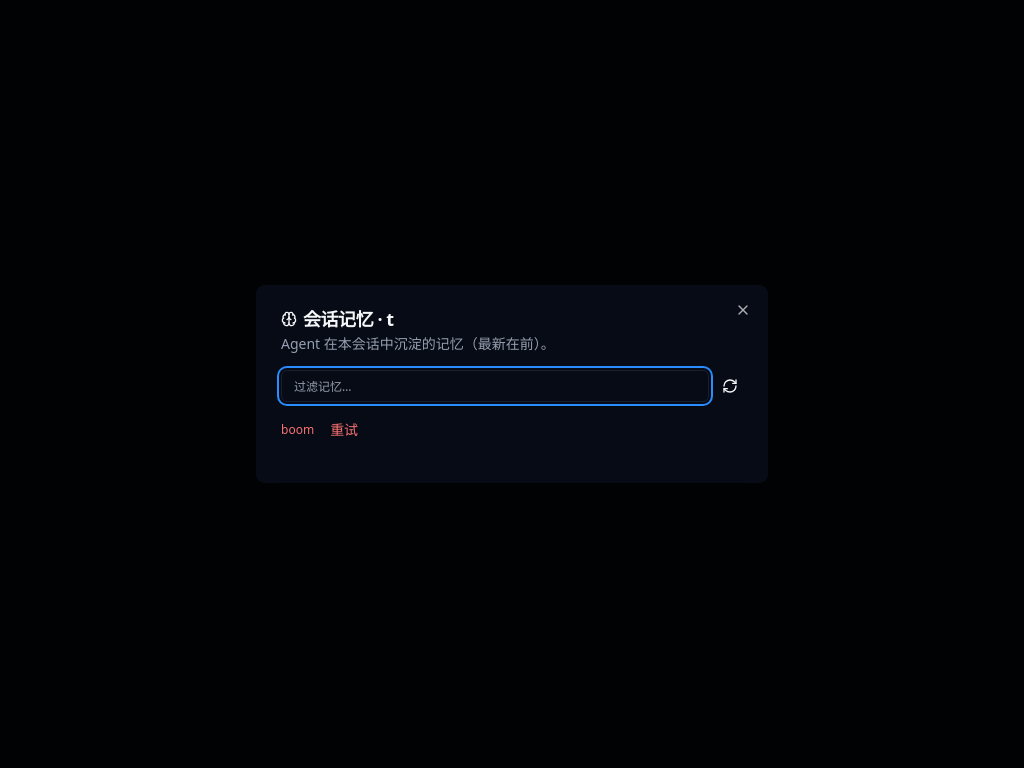
Test: MemoriesDialog › shows error with retry
The image size is (1024, 768).
Expected: the text "boom" is shown, [281,422,314,438]
Click the button "重试" at (344, 430), box [322,418,366,442]
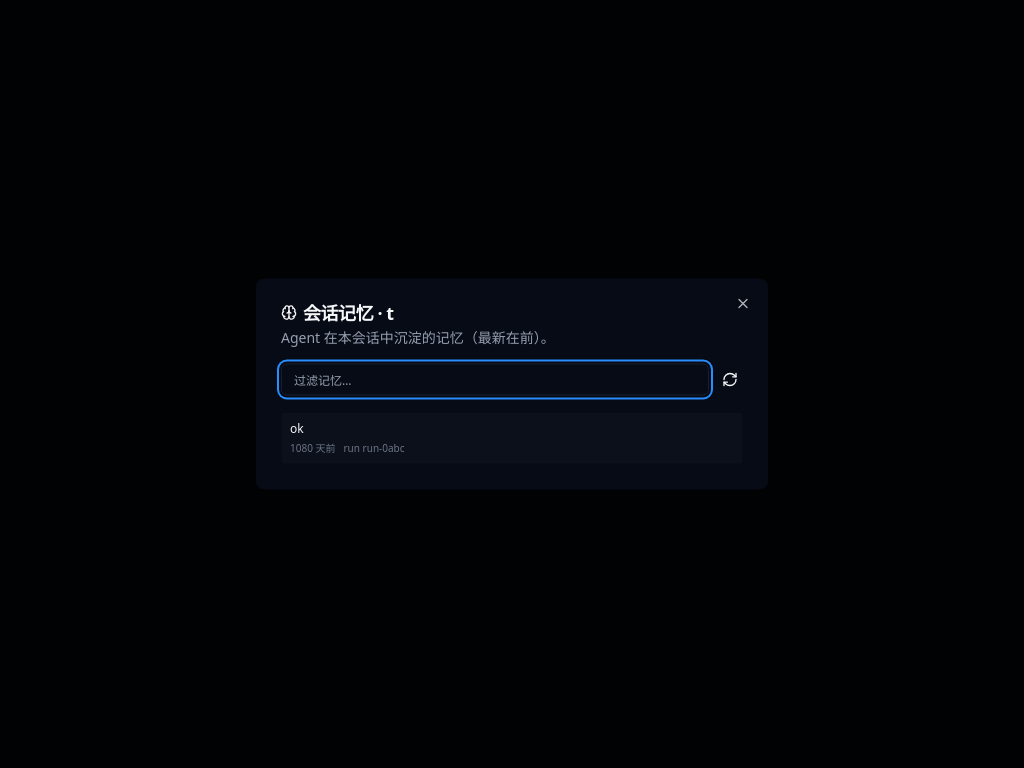
Now the text "ok" is shown, box [290,420,304,436]
